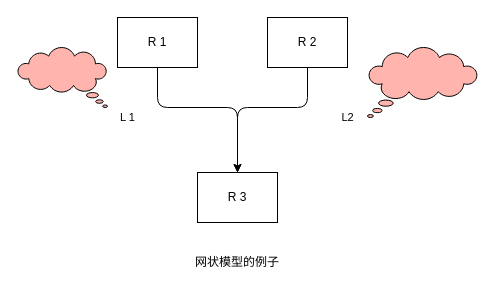
This 495x295 diagram has some shape labels left out. Here are the shapes that lost their labels. From the top down, the centre of each, then its label:
the point at 62,77: R1和R3之间的 联系L1
the point at 422,82: R2和R3之间的 联系L2
